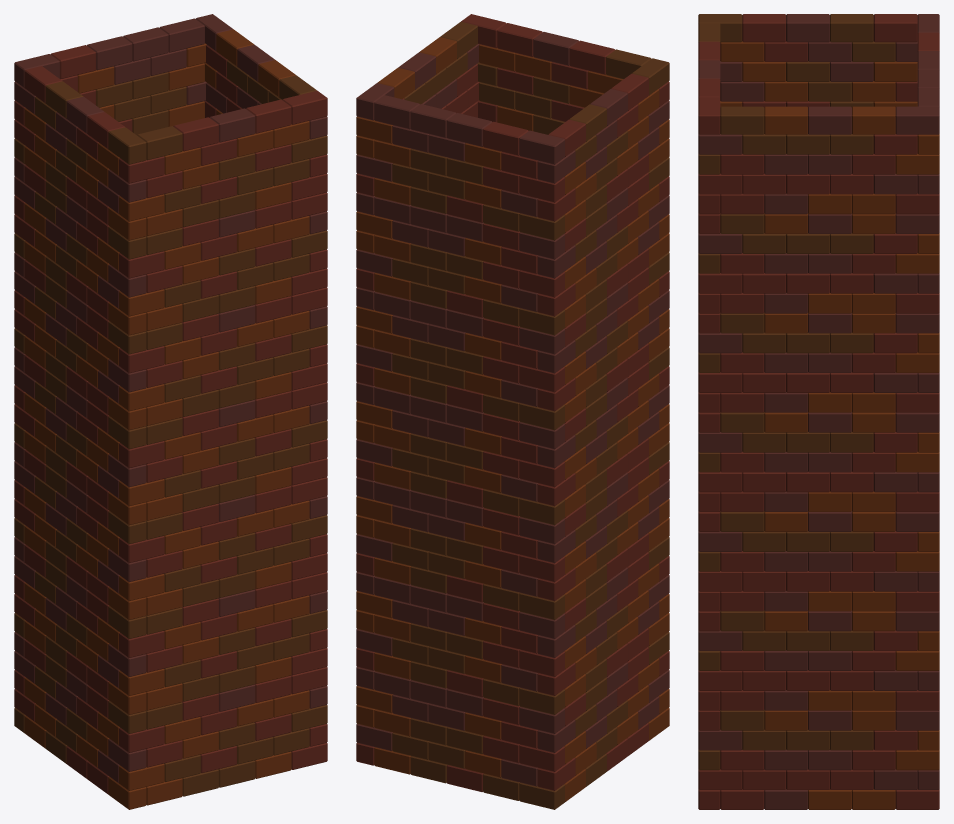
File: wall.fbx
3 renders of one model, left to right at view 1: azimuth 30°, elevation 25°; view 2: azimuth 150°, elevation 25°; view 3: azimuth 270°, elevation 25°, orthographic. The views are drawn at different scales.
Visible parts, largest first — view 1: Cube.001; view 2: Cube.001; view 3: Cube.001.
Boxes of the visible parts, x1=… form: Cube.001: x1=14, y1=14, x2=327, y2=809; Cube.001: x1=356, y1=14, x2=669, y2=809; Cube.001: x1=698, y1=14, x2=939, y2=809.
Size of the model in its own units: 220 by 700 by 220.
